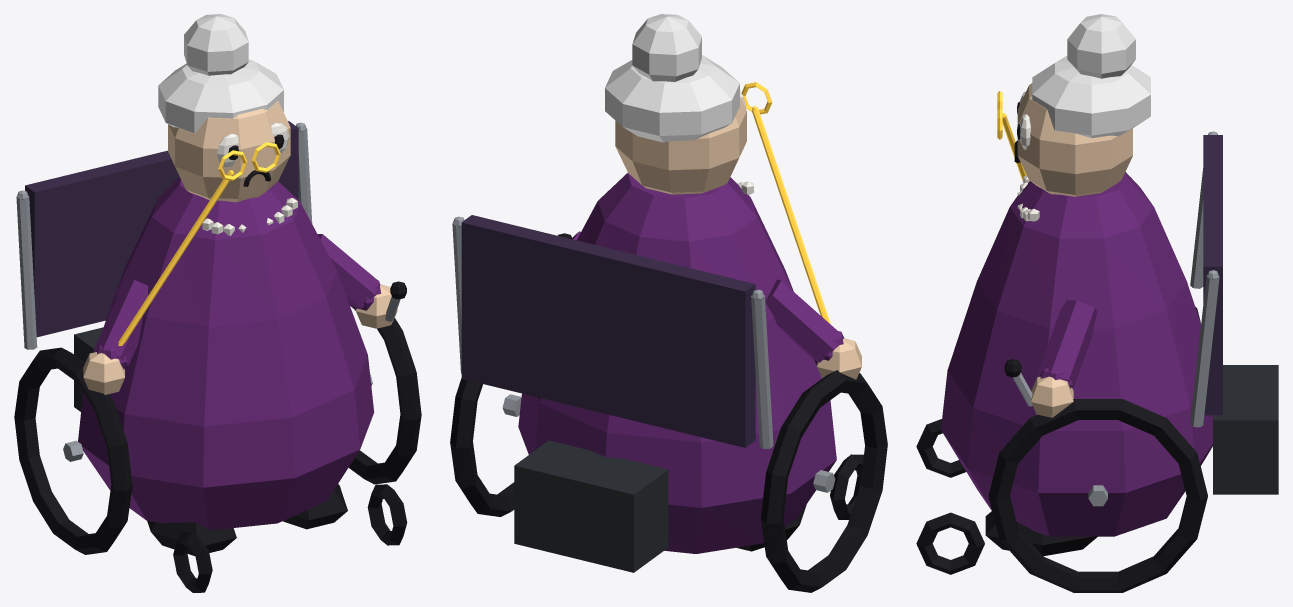
Rendered from npc_dona_clotilde.glb.
3 views of the same model, side by side, from view 1: azimuth 30°, elevation 25°; view 2: azimuth 150°, elevation 25°; view 3: azimuth 270°, elevation 25° (orthographic). The views are drawn at different scales.
Visible parts, largest first — view 1: body_clotilde_dress, chair_chair_seat, chair_black, head_hair_white, head_skin_crema, arms_clotilde_dress, chair_chair_metal, legs_black, arms_skin_crema, props_gold, chair_chair_motor, face_white; view 2: chair_chair_seat, body_clotilde_dress, chair_chair_motor, chair_black, head_hair_white, head_skin_crema, chair_chair_metal, arms_clotilde_dress, props_gold, arms_skin_crema; view 3: body_clotilde_dress, chair_black, head_hair_white, chair_chair_motor, head_skin_crema, chair_chair_seat, chair_chair_metal, arms_clotilde_dress, legs_black, arms_skin_crema, props_gold.
Part boxes in pixels (<box>): body_clotilde_dress: <box>78,177,374,529</box>; chair_chair_seat: <box>25,121,298,337</box>; chair_black: <box>14,281,421,592</box>; head_hair_white: <box>158,14,283,133</box>; head_skin_crema: <box>168,101,290,202</box>; arms_clotilde_dress: <box>93,234,381,369</box>; chair_chair_metal: <box>16,122,400,461</box>; legs_black: <box>147,484,347,555</box>; arms_skin_crema: <box>83,284,397,394</box>; props_gold: <box>118,142,280,345</box>; chair_chair_motor: <box>74,327,103,411</box>; face_white: <box>217,123,289,167</box>; chair_chair_seat: <box>461,215,755,447</box>; body_clotilde_dress: <box>518,173,836,553</box>; chair_chair_motor: <box>514,440,668,572</box>; chair_black: <box>450,233,887,592</box>; head_hair_white: <box>605,14,739,142</box>; head_skin_crema: <box>615,97,746,194</box>; chair_chair_metal: <box>452,216,835,492</box>; arms_clotilde_dress: <box>571,231,844,364</box>; props_gold: <box>741,82,830,324</box>; arms_skin_crema: <box>817,338,861,379</box>; body_clotilde_dress: <box>941,172,1212,536</box>; chair_black: <box>916,307,1207,592</box>; head_hair_white: <box>1032,14,1150,138</box>; chair_chair_motor: <box>1213,365,1278,494</box>; head_skin_crema: <box>1017,83,1132,196</box>; chair_chair_seat: <box>1203,135,1222,415</box>; chair_chair_metal: <box>1013,131,1219,506</box>; arms_clotilde_dress: <box>1038,300,1097,388</box>; legs_black: <box>985,511,1097,556</box>; arms_skin_crema: <box>1031,376,1073,417</box>; props_gold: <box>997,91,1026,182</box>.
Bounding box in the file's own units: 1.13 × 1.72 × 1.11.
